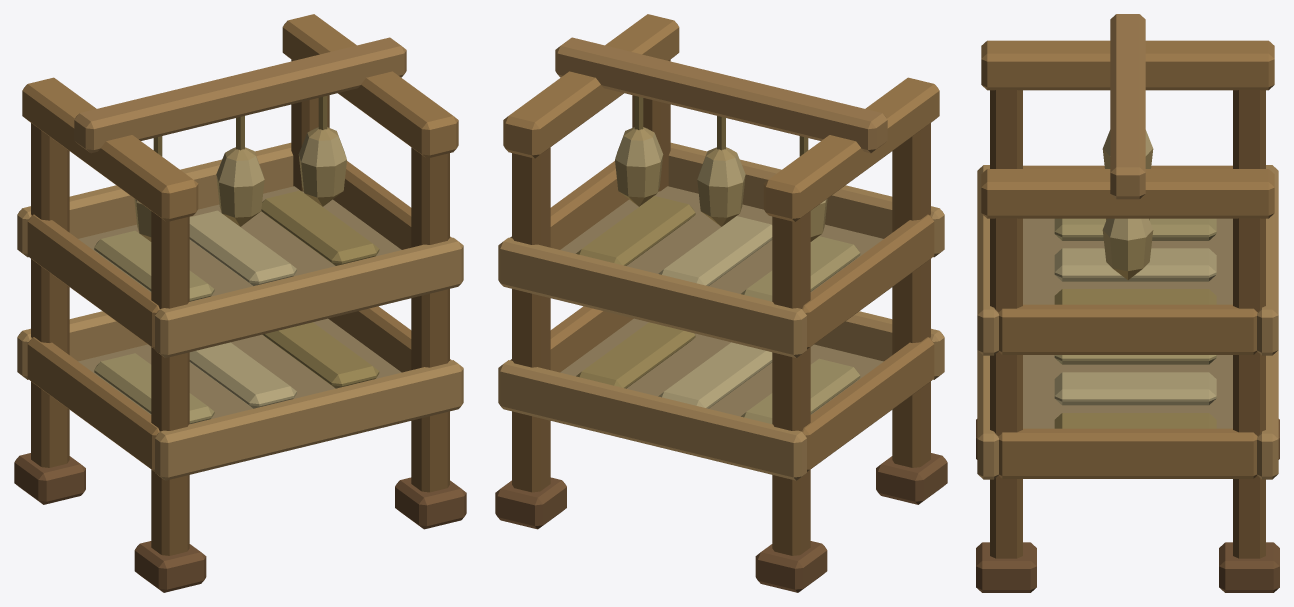
Rendered from SeedDryingRack.glb.
The picture shows the model from 3 angles, left to right: view 1: azimuth 30°, elevation 25°; view 2: azimuth 150°, elevation 25°; view 3: azimuth 270°, elevation 25°; orthographic projection.
Parts seen in each view (by area): view 1: SeedDryingRack_Arrangement; view 2: SeedDryingRack_Arrangement; view 3: SeedDryingRack_Arrangement.
Part boxes in pixels (x1,y1,x2,y2): SeedDryingRack_Arrangement: [14, 14, 466, 592]; SeedDryingRack_Arrangement: [495, 14, 947, 592]; SeedDryingRack_Arrangement: [976, 14, 1279, 592].
Bounding box in the file's own units: 0.74 × 0.935 × 0.6.
